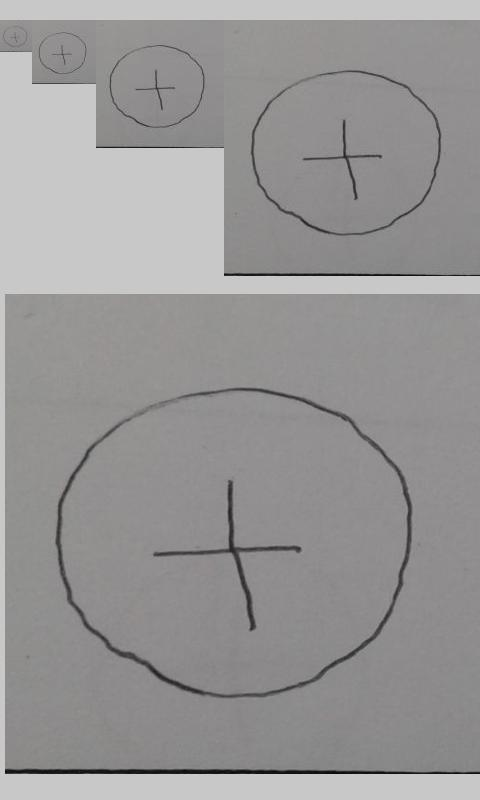button: (52, 384, 417, 703), (249, 68, 444, 237), (108, 43, 206, 130), (38, 31, 87, 75), (2, 25, 28, 48)
